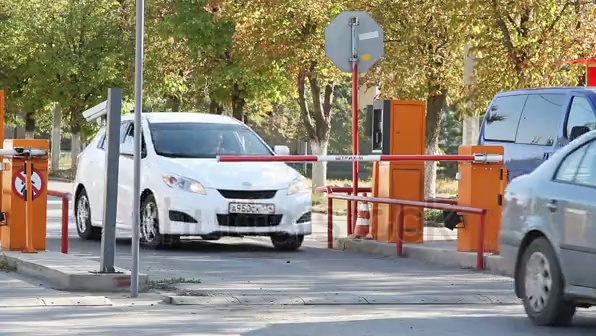licenseplate: (224, 197, 285, 212)
